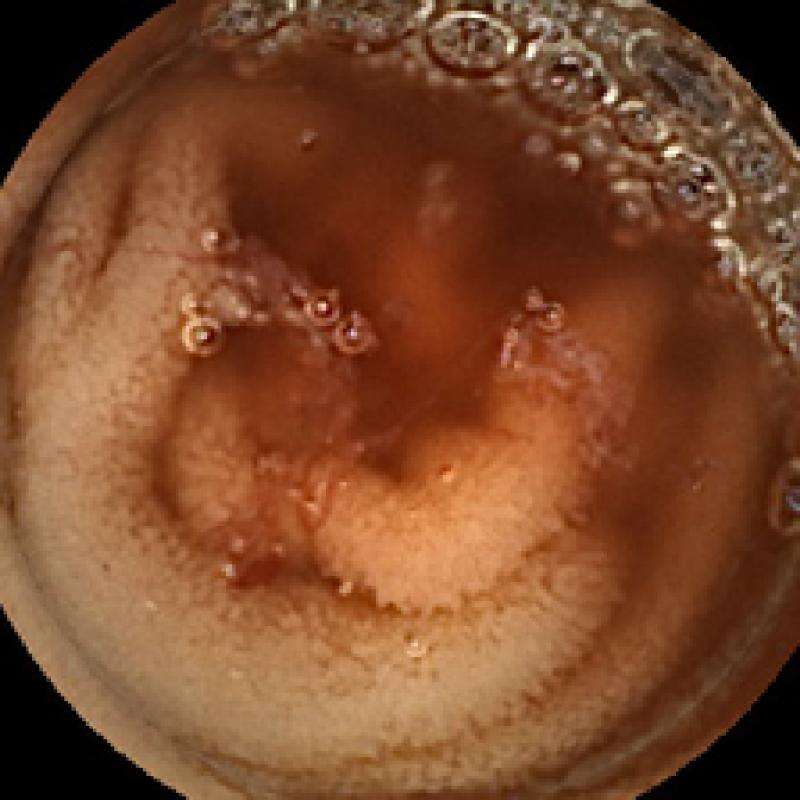bleeding: (210, 540, 310, 614)
